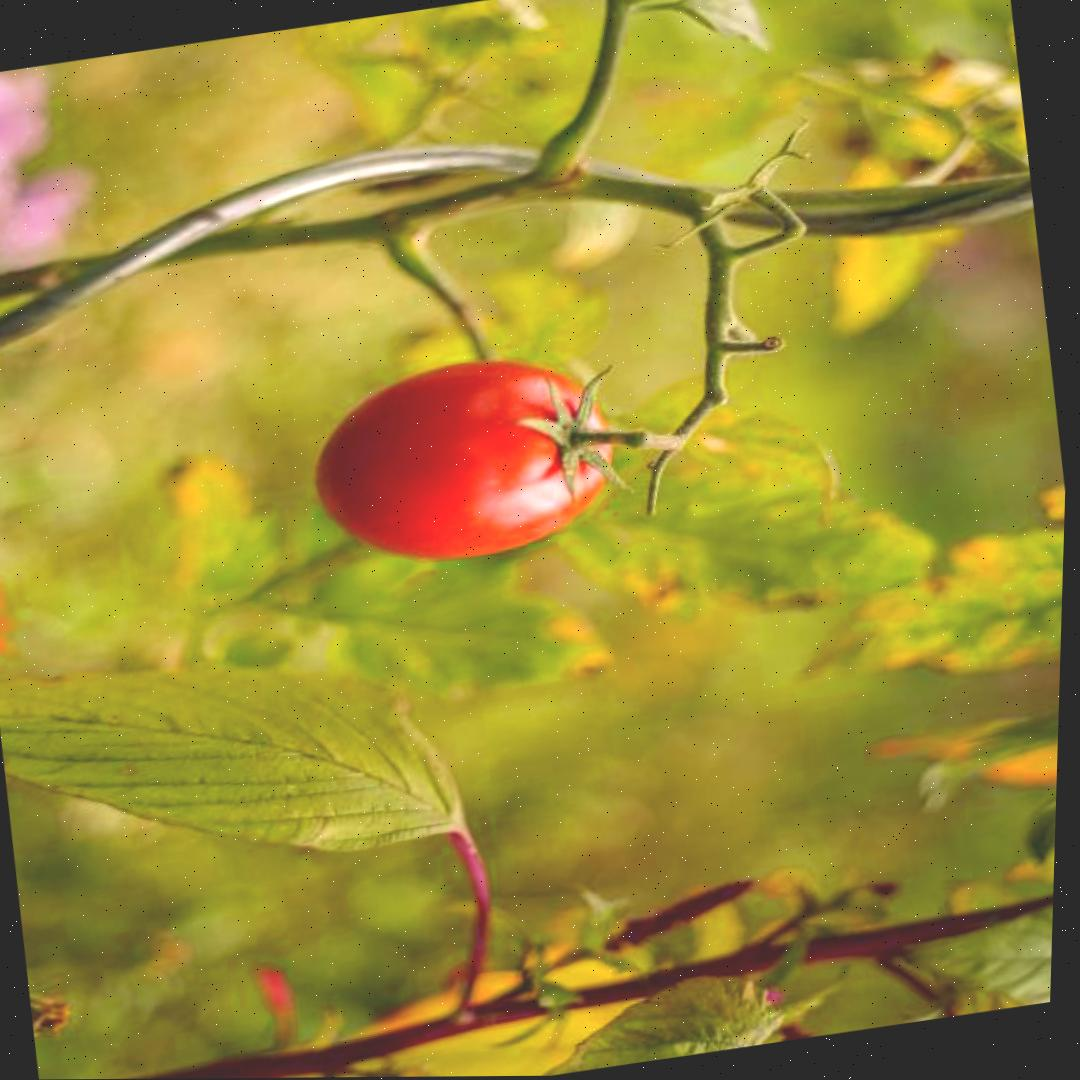matang: (297, 341, 629, 577)
